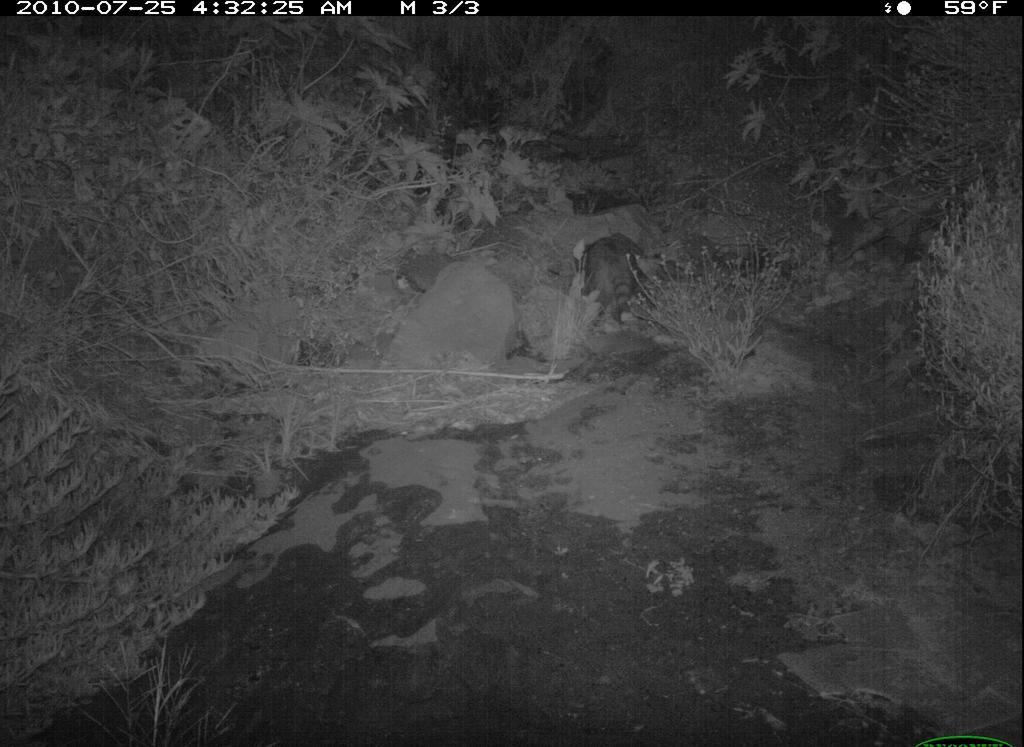raccoon: (576, 226, 658, 333)
